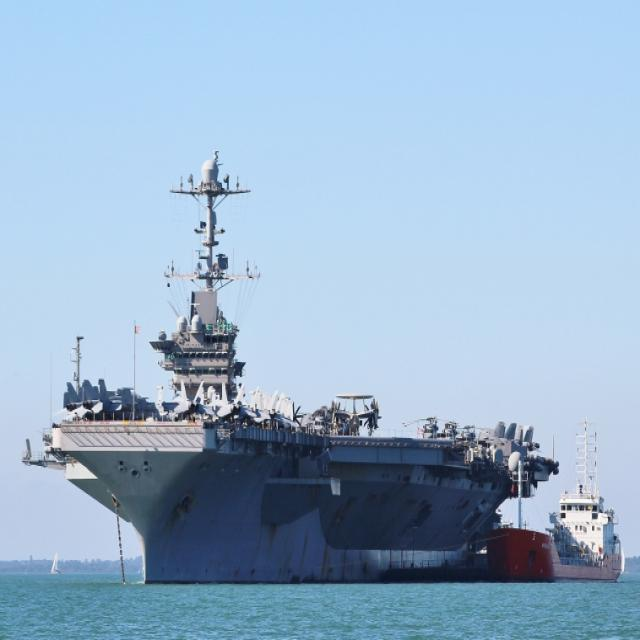Portanaves: (19, 154, 565, 597)
